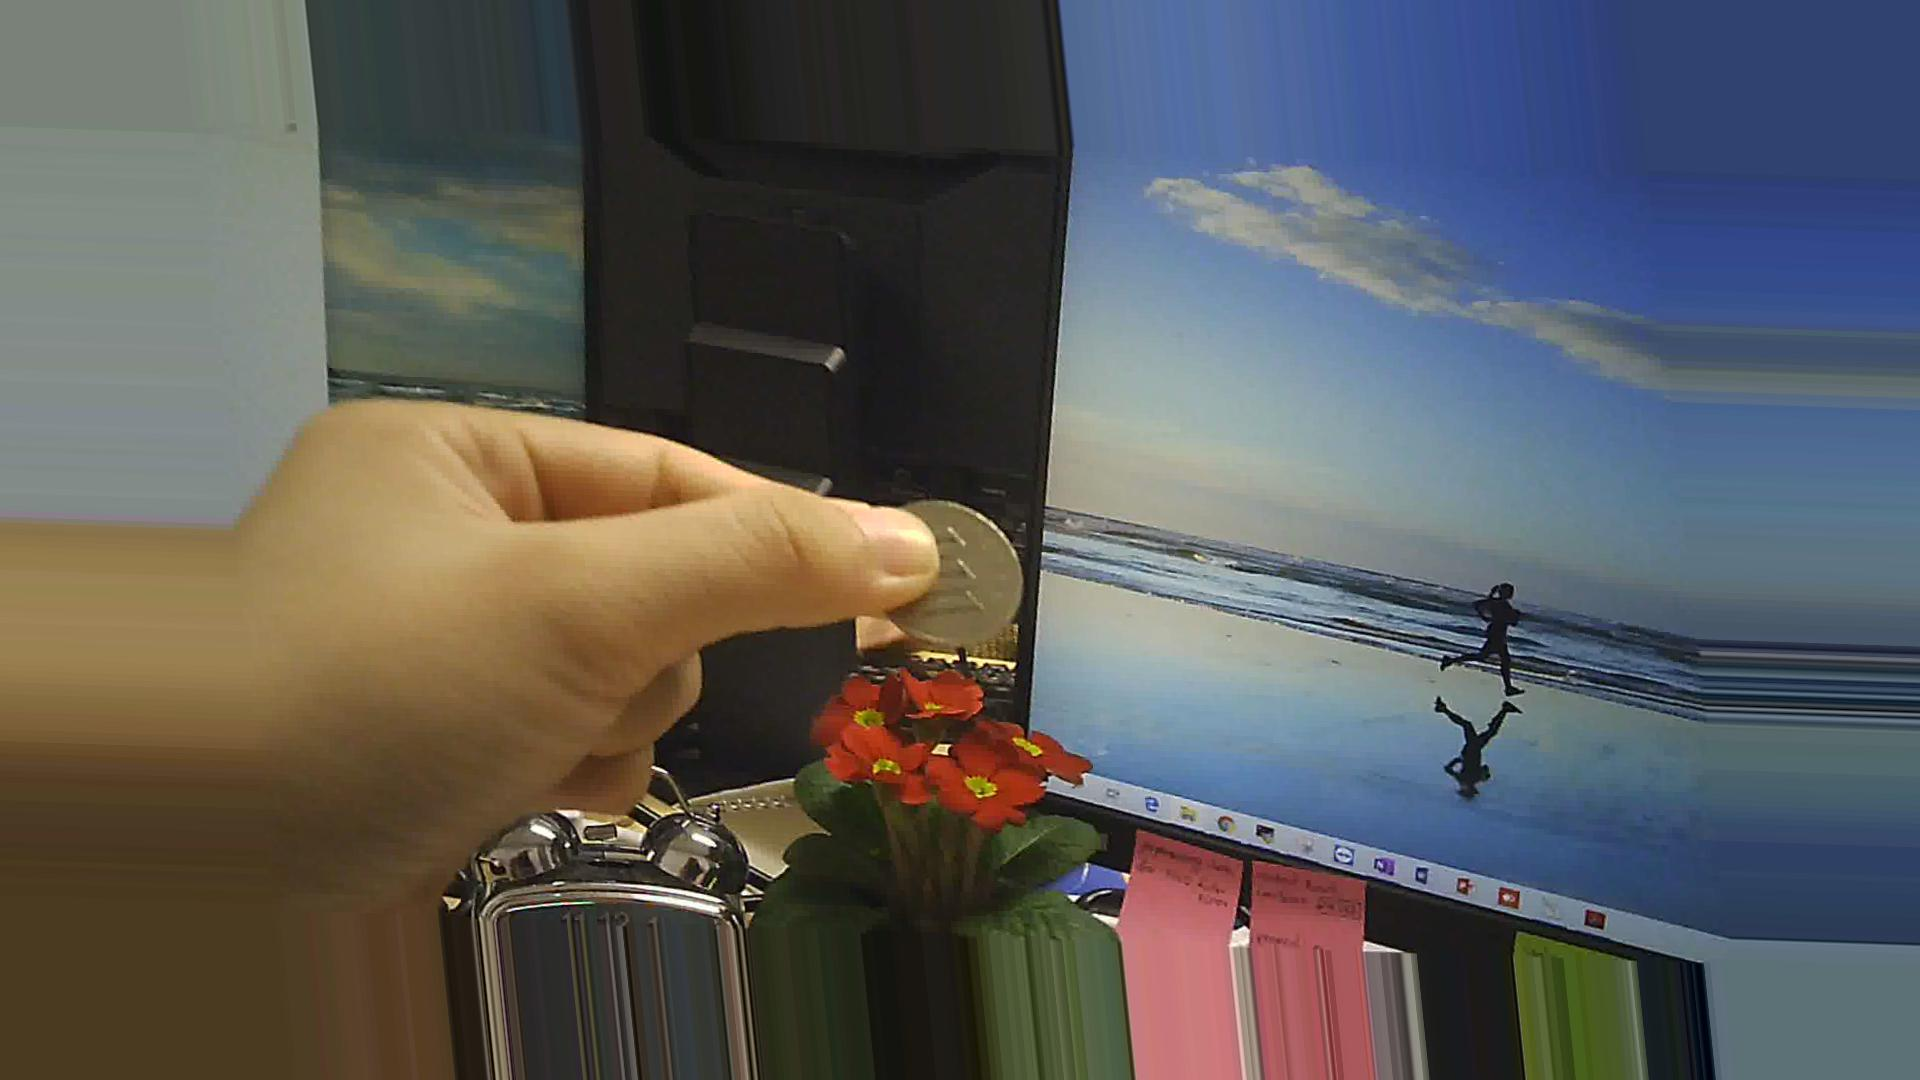100 Yen: (862, 491, 1040, 647)
